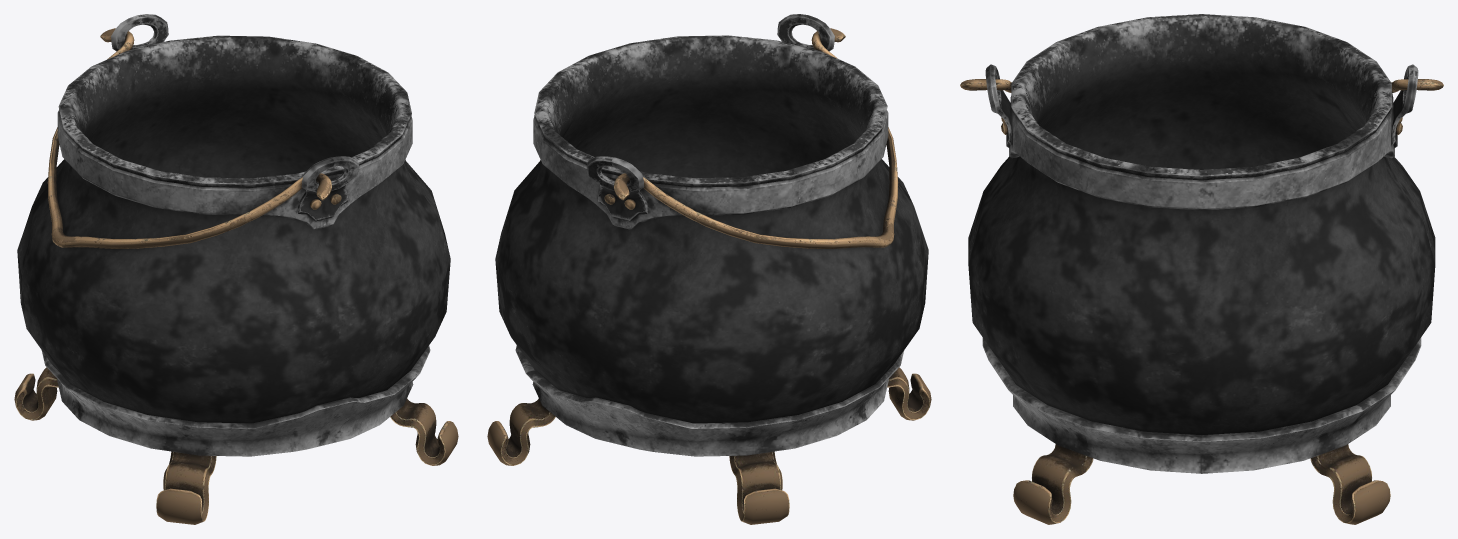
The model's file is iron_cauldron_game_ready_asset.glb.
The picture shows the model from 3 angles, left to right: view 1: azimuth 30°, elevation 25°; view 2: azimuth 150°, elevation 25°; view 3: azimuth 270°, elevation 25°; orthographic projection. The views are drawn at different scales.
Parts seen in each view (by area): view 1: IronPan; view 2: IronPan; view 3: IronPan.
Part boxes in pixels (x1=…): IronPan: x1=14, y1=14, x2=458, y2=524; IronPan: x1=487, y1=14, x2=931, y2=524; IronPan: x1=960, y1=14, x2=1443, y2=524.
Bounding box in the file's own units: 56.22 × 50.18 × 57.68.
1 material, 1 textured.
